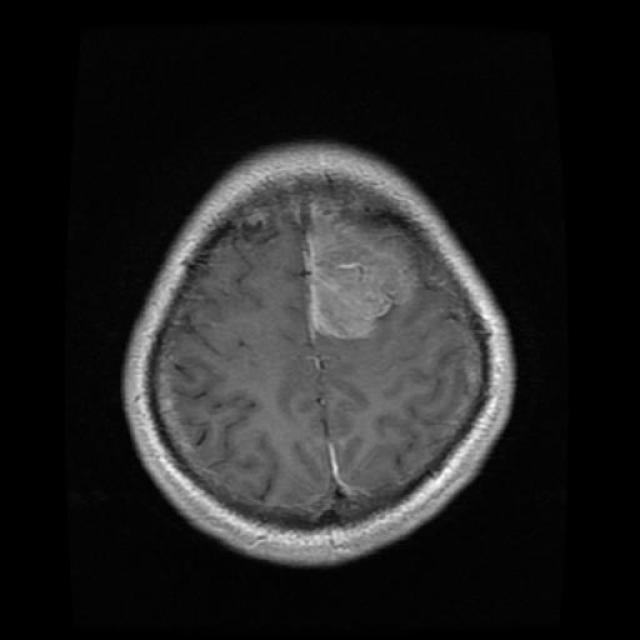meningioma: (308, 198, 419, 341)
